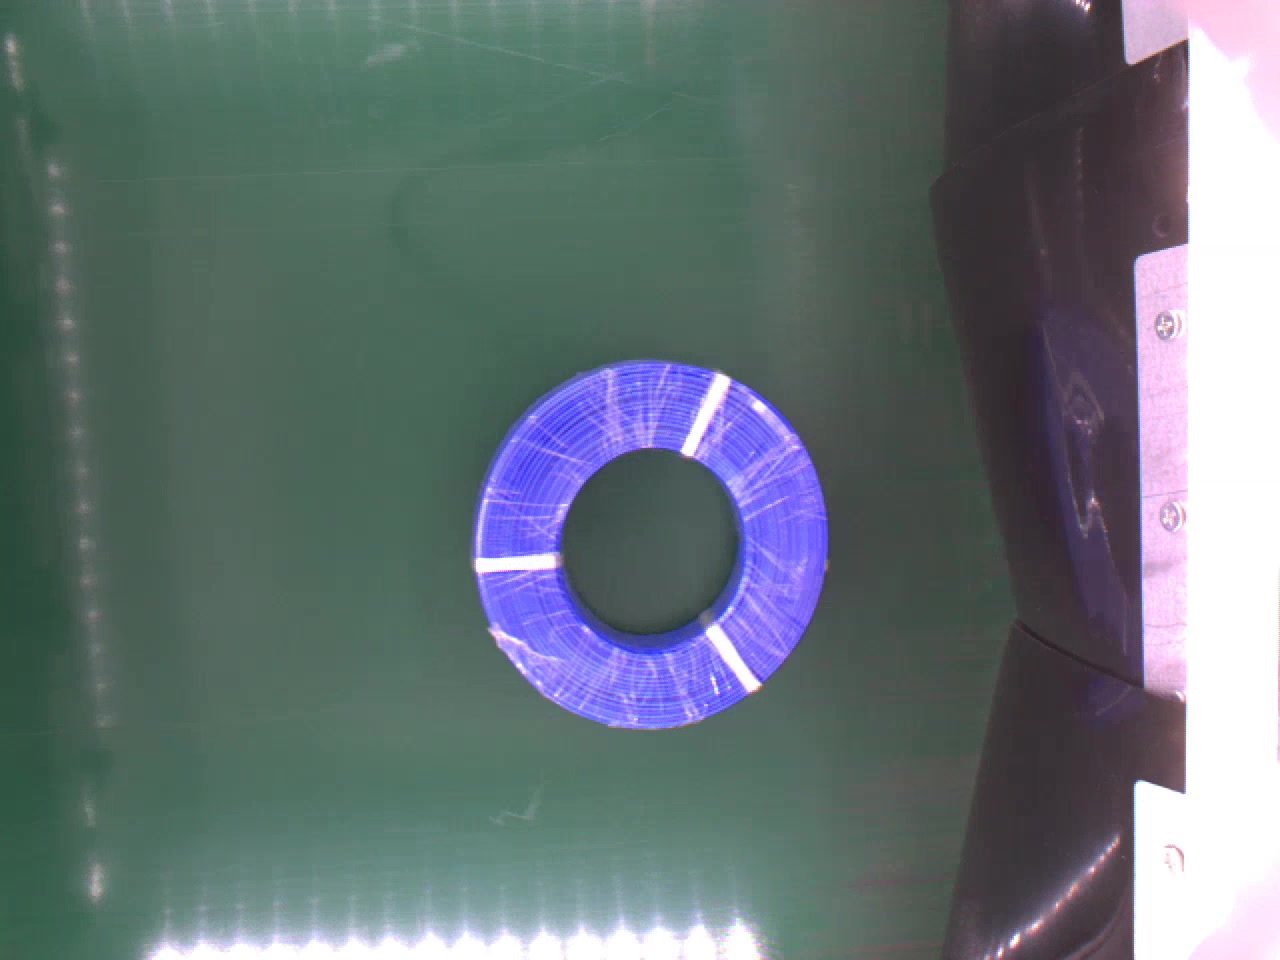blue: (466, 354, 831, 730)
